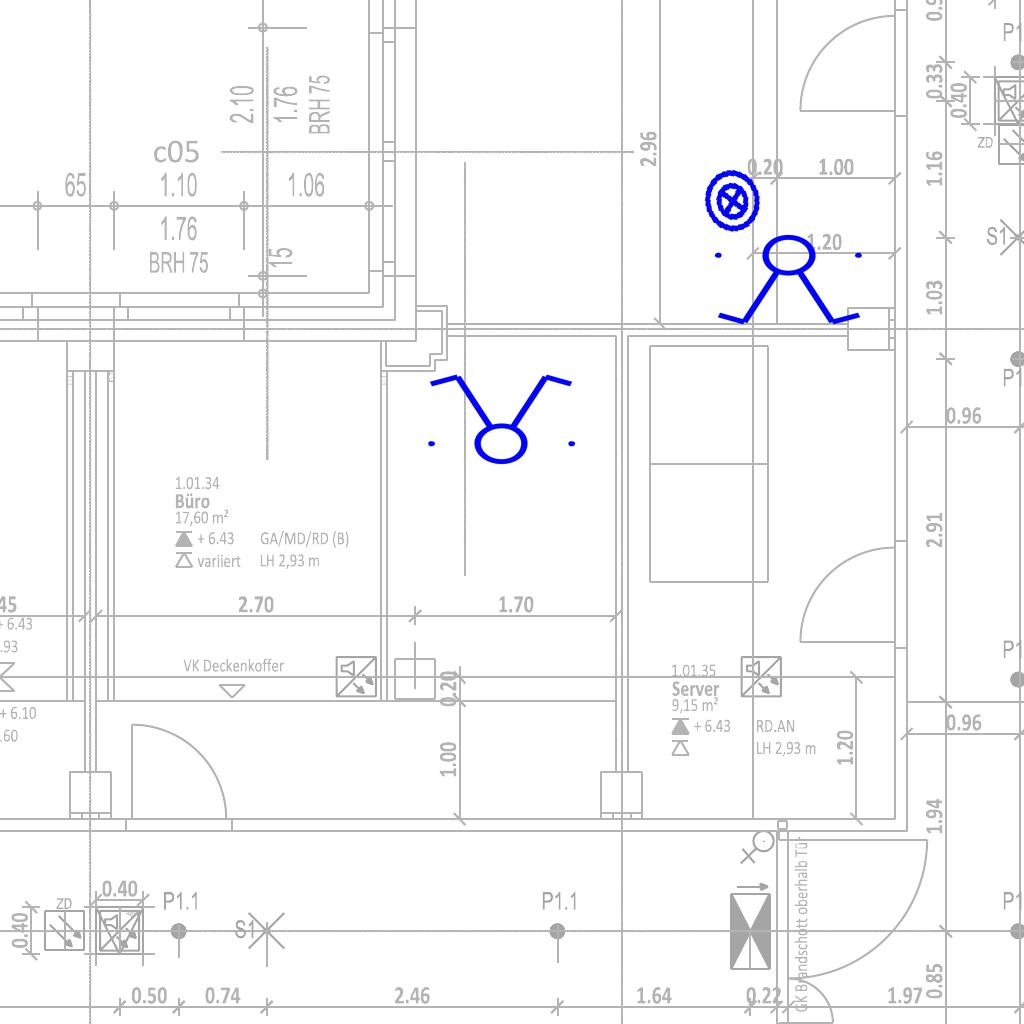Serienschalter: (416, 370, 584, 466), (706, 233, 874, 329)
Taster_beleuchtet: (694, 162, 772, 240)
